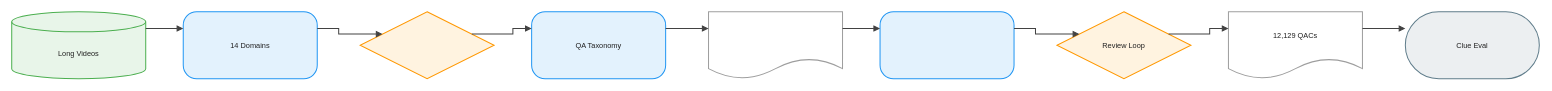
The diagram is 1552 pixels wide and 91 high, and some of its shapes have lost their labels. The centre of each missing label's shape, as x and y in pixels:
"7-Round Filter" belongs at (x=426, y=45).
"MCQ Options" belongs at (x=946, y=45).
"QAC Triplets" belongs at (x=775, y=45).
